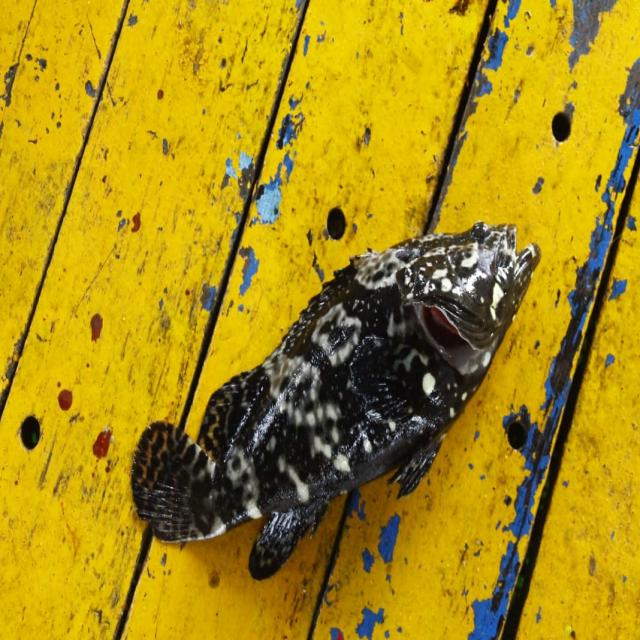ikan: (123, 204, 543, 577)
